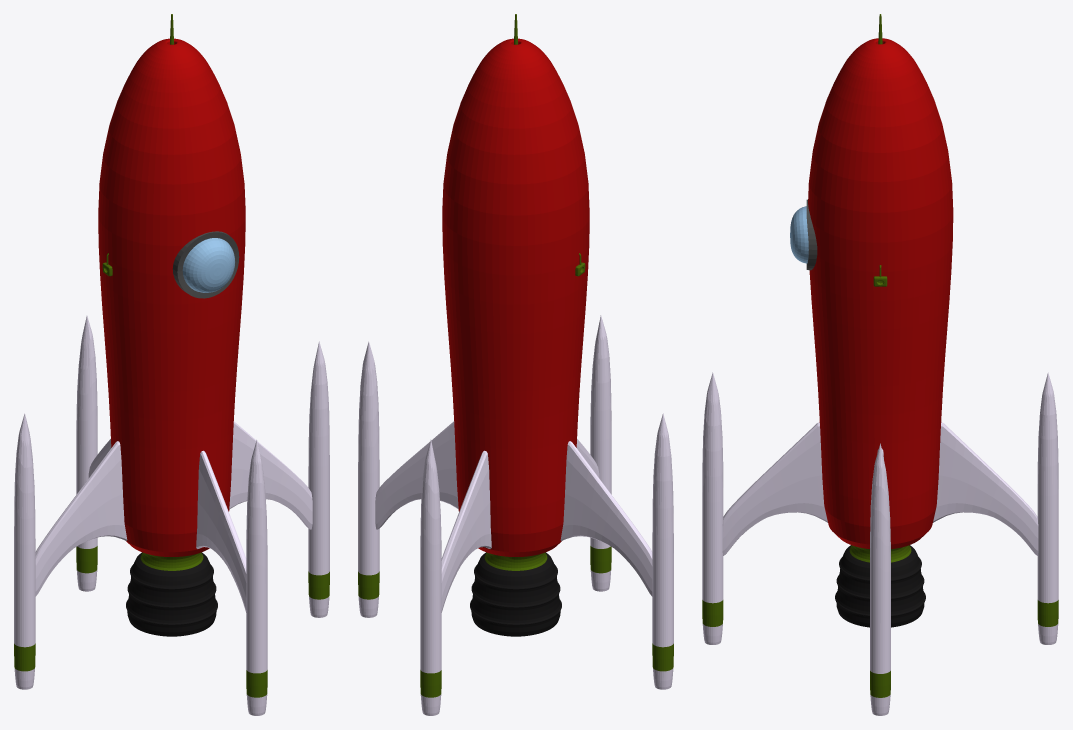
The model's file is rocket_model6_.fbx.
3 renders of one model, left to right at view 1: azimuth 30°, elevation 25°; view 2: azimuth 150°, elevation 25°; view 3: azimuth 270°, elevation 25°, orthographic.
Visible parts, largest first — view 1: Cylinder, Cylinder.003, Cylinder.002, Cylinder.001, Cylinder.004, Sphere; view 2: Cylinder, Cylinder.003, Cylinder.002, Cylinder.004, Cylinder.001; view 3: Cylinder, Cylinder.001, Cylinder.004, Cylinder.002, Sphere.
Boxes of the visible parts, box(x1,y1,x2,y2) form: Cylinder: box(98, 38, 245, 636); Cylinder.003: box(14, 413, 127, 689); Cylinder.002: box(229, 341, 329, 617); Cylinder.001: box(196, 440, 267, 715); Cylinder.004: box(76, 315, 111, 591); Sphere: box(172, 231, 239, 298); Cylinder: box(442, 38, 589, 636); Cylinder.003: box(560, 413, 673, 689); Cylinder.002: box(358, 341, 458, 617); Cylinder.004: box(420, 440, 491, 715); Cylinder.001: box(576, 315, 611, 591); Cylinder: box(808, 38, 953, 627); Cylinder.001: box(702, 372, 827, 644); Cylinder.004: box(933, 372, 1058, 644); Cylinder.002: box(870, 443, 890, 715); Sphere: box(790, 199, 817, 270).
Size of the model in its own units: 611 by 1188 by 611.
